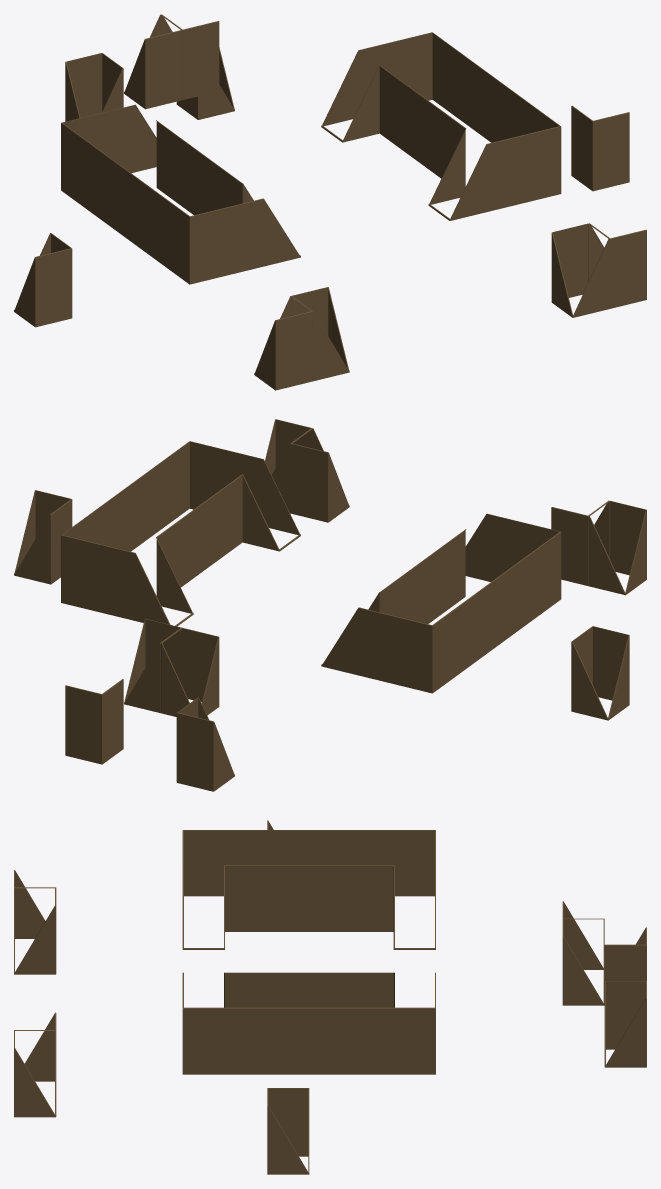
The model's file is A_zone_03_dancefloor_wood_02_.fbx.
3 views of the same model, one above another, from view 1: azimuth 30°, elevation 25°; view 2: azimuth 150°, elevation 25°; view 3: azimuth 270°, elevation 25° (orthographic).
Visible parts, largest first — view 1: A_zone_03_dancefloor_wood_; view 2: A_zone_03_dancefloor_wood_; view 3: A_zone_03_dancefloor_wood_.
Boxes of the visible parts, <box> form: A_zone_03_dancefloor_wood_: <box>14,14,646,390</box>; A_zone_03_dancefloor_wood_: <box>14,419,646,791</box>; A_zone_03_dancefloor_wood_: <box>14,820,646,1174</box>.
Bounding box in the file's own units: 3200 × 590 × 3000.
